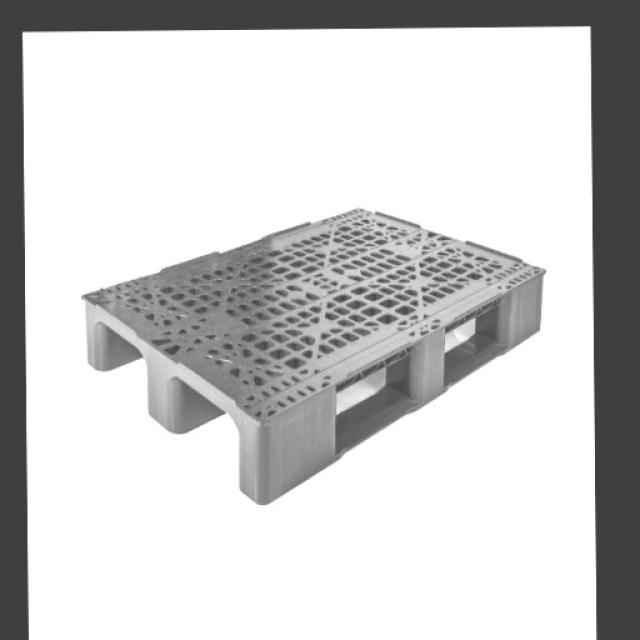non-igps: (74, 197, 554, 510)
